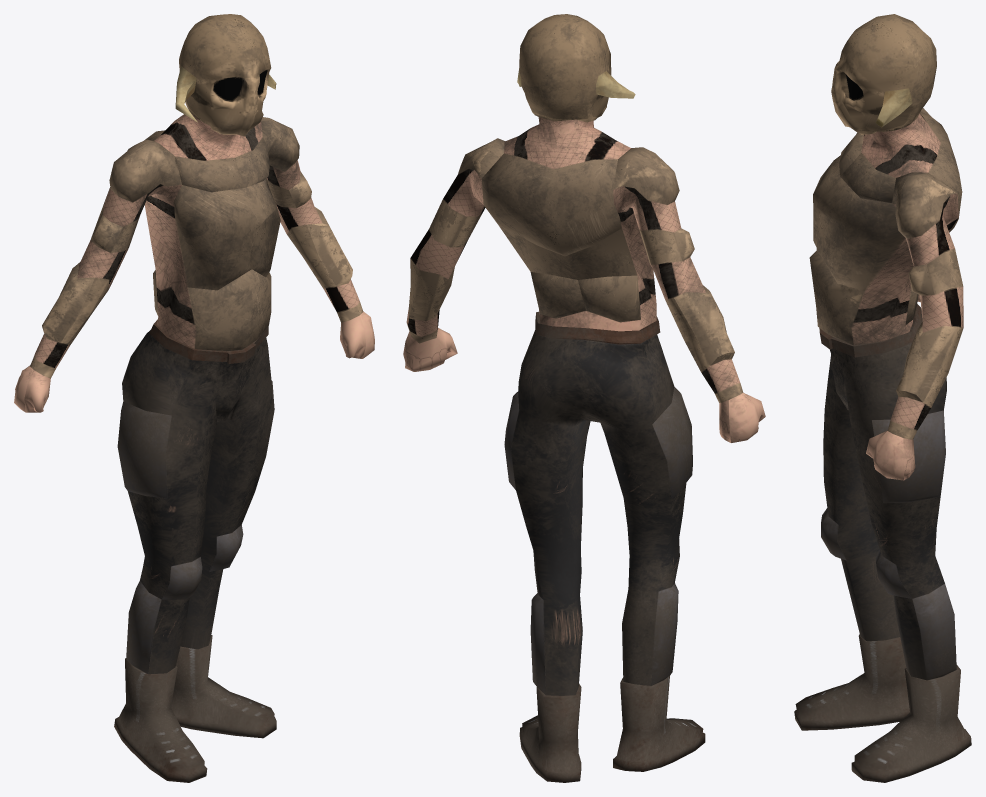
The model's file is Anim_interruptor_npc1.0034.obj.
3 renders of one model, left to right at view 1: azimuth 30°, elevation 25°; view 2: azimuth 150°, elevation 25°; view 3: azimuth 270°, elevation 25°, orthographic. The views are drawn at different scales.
Visible parts, largest first — view 1: NPC2; view 2: NPC2; view 3: NPC2.
Part boxes in pixels (x1,y1,x2,y2): NPC2: (14,14,374,782); NPC2: (403,14,765,782); NPC2: (794,14,971,782).
Bounding box in the file's own units: 4.95 × 9.61 × 2.08.
